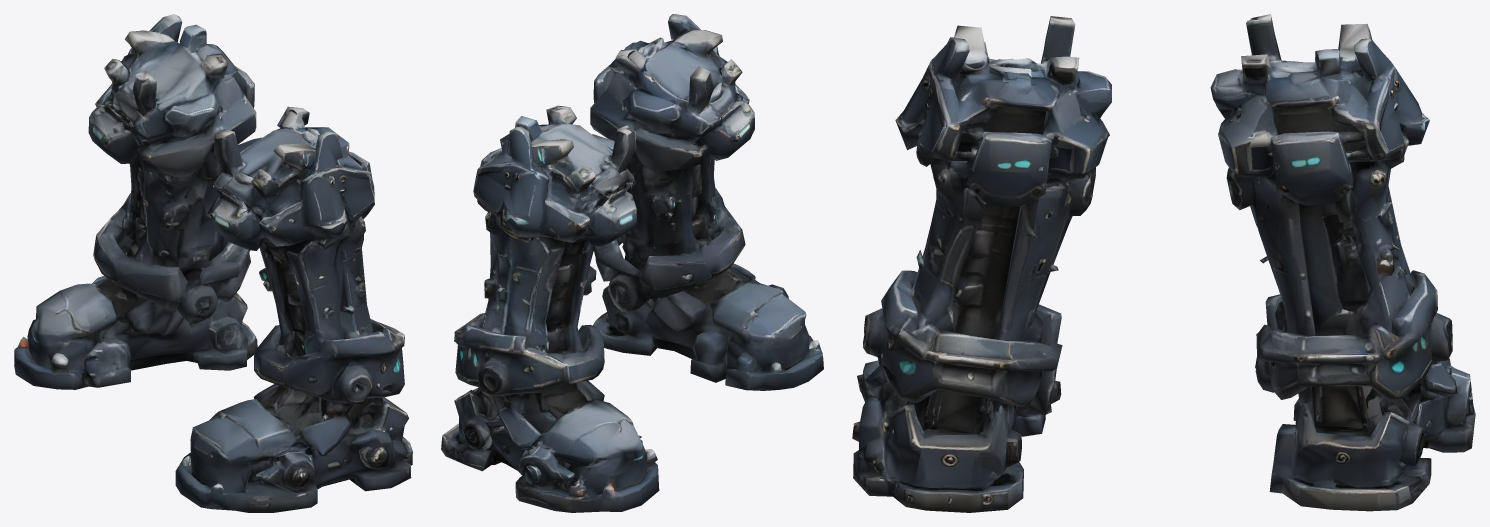
3 renders of one model, left to right at view 1: azimuth 30°, elevation 25°; view 2: azimuth 150°, elevation 25°; view 3: azimuth 270°, elevation 25°, orthographic. The views are drawn at different scales.
Parts seen in each view (by area): view 1: tripo_node_dad18629-a77b-4a72-8be7-00515118526c; view 2: tripo_node_dad18629-a77b-4a72-8be7-00515118526c; view 3: tripo_node_dad18629-a77b-4a72-8be7-00515118526c.
Boxes of the visible parts, box(x1,y1,x2,y2) form: tripo_node_dad18629-a77b-4a72-8be7-00515118526c: box(14, 14, 412, 512); tripo_node_dad18629-a77b-4a72-8be7-00515118526c: box(441, 14, 823, 512); tripo_node_dad18629-a77b-4a72-8be7-00515118526c: box(852, 14, 1475, 512).
Size of the model in its own units: 0.5059 by 0.7666 by 0.9975.
Materials: 1 (1 with a texture image).
